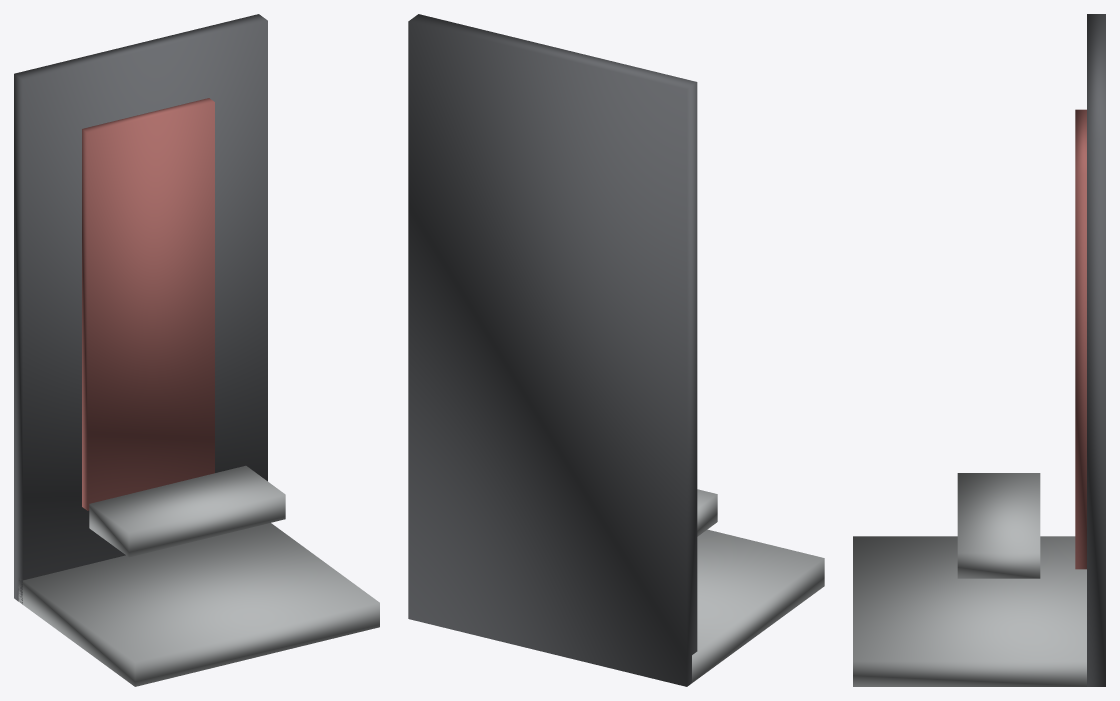
The model's file is roof_access_hatch_stair_14.glb.
3 renders of one model, left to right at view 1: azimuth 30°, elevation 25°; view 2: azimuth 150°, elevation 25°; view 3: azimuth 270°, elevation 25°, orthographic. The views are drawn at different scales.
Parts seen in each view (by area): view 1: world; view 2: world; view 3: world.
Part boxes in pixels (x1,y1,x2,y2): world: (14,14,379,686); world: (408,14,824,686); world: (853,14,1105,686).
Size of the model in its own units: 1.25 by 2.56 by 1.07.
